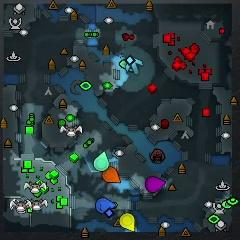p1: (96, 197, 116, 213)
p2: (93, 150, 110, 174)
p3: (145, 176, 167, 194)
p4: (118, 213, 136, 233)
p5: (103, 166, 121, 183)
x3: (125, 57, 144, 75)
